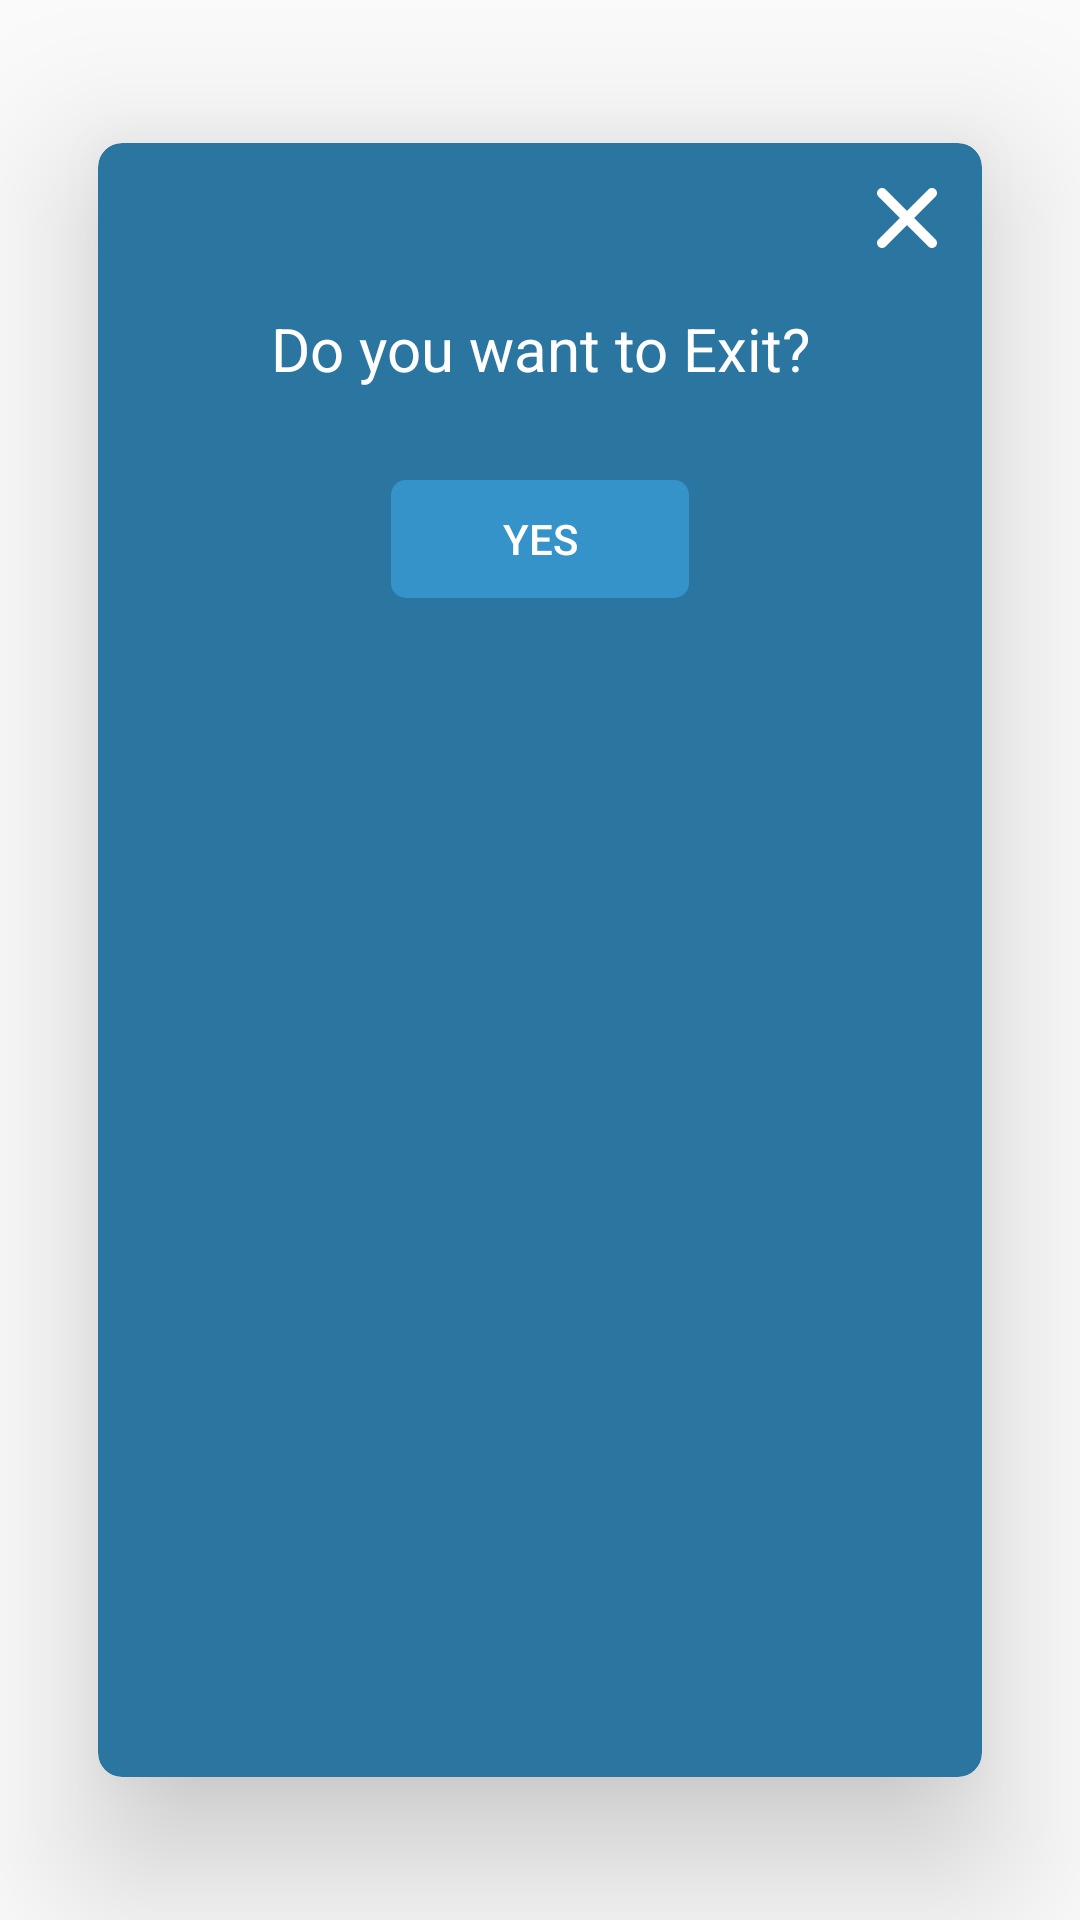

Screen size 1080w x 1920h. Icon name, then its center in pixels as [x,y]:
cancel: [907,218]
